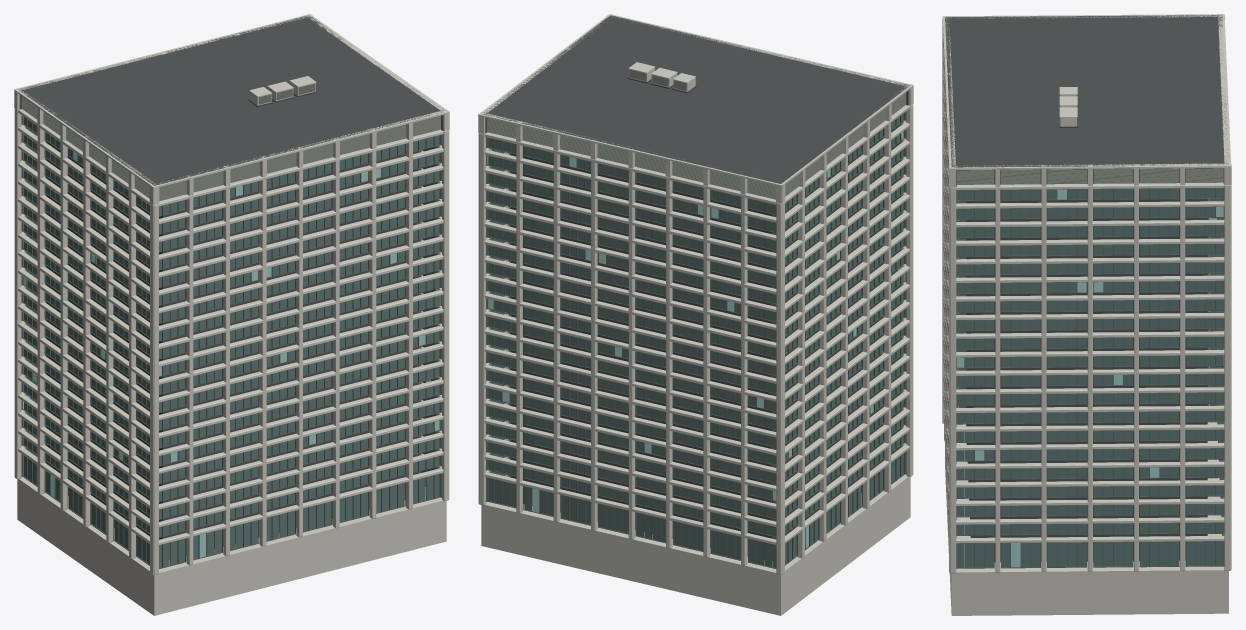
File: wacker_100.glb
The picture shows the model from 3 angles, left to right: view 1: azimuth 30°, elevation 25°; view 2: azimuth 150°, elevation 25°; view 3: azimuth 270°, elevation 25°; orthographic projection. The views are drawn at different scales.
Visible parts, largest first — view 1: Wacker100 pale sculpted facade grid, Wacker100 recessed green grey panes, Wacker100 opaque interior and roof, Wacker100 dark bronze window frames, Wacker100 rooftop louver blades, Night occupied Wacker100 panes; view 2: Wacker100 pale sculpted facade grid, Wacker100 recessed green grey panes, Wacker100 opaque interior and roof, Wacker100 dark bronze window frames, Wacker100 rooftop louver blades, Night occupied Wacker100 panes; view 3: Wacker100 pale sculpted facade grid, Wacker100 opaque interior and roof, Wacker100 recessed green grey panes, Wacker100 dark bronze window frames, Wacker100 rooftop louver blades, Night occupied Wacker100 panes.
Boxes of the visible parts, box(x1,y1,x2,y2) form: Wacker100 pale sculpted facade grid: box(14, 14, 449, 615); Wacker100 recessed green grey panes: box(22, 116, 440, 567); Wacker100 opaque interior and roof: box(18, 15, 443, 559); Wacker100 dark bronze window frames: box(21, 115, 441, 568); Wacker100 rooftop louver blades: box(21, 84, 441, 200); Night occupied Wacker100 panes: box(22, 152, 440, 557); Wacker100 pale sculpted facade grid: box(478, 14, 913, 615); Wacker100 recessed green grey panes: box(487, 112, 905, 567); Wacker100 opaque interior and roof: box(483, 15, 909, 560); Wacker100 dark bronze window frames: box(486, 111, 906, 568); Wacker100 rooftop louver blades: box(486, 70, 906, 199); Night occupied Wacker100 panes: box(487, 131, 905, 547); Wacker100 pale sculpted facade grid: box(942, 14, 1231, 615); Wacker100 opaque interior and roof: box(945, 15, 1228, 562); Wacker100 recessed green grey panes: box(956, 188, 1223, 568); Wacker100 dark bronze window frames: box(956, 188, 1224, 568); Wacker100 rooftop louver blades: box(957, 95, 1223, 184); Night occupied Wacker100 panes: box(956, 189, 1223, 567).
Size of the model in its own units: 60.96 by 84.4 by 48.16.
